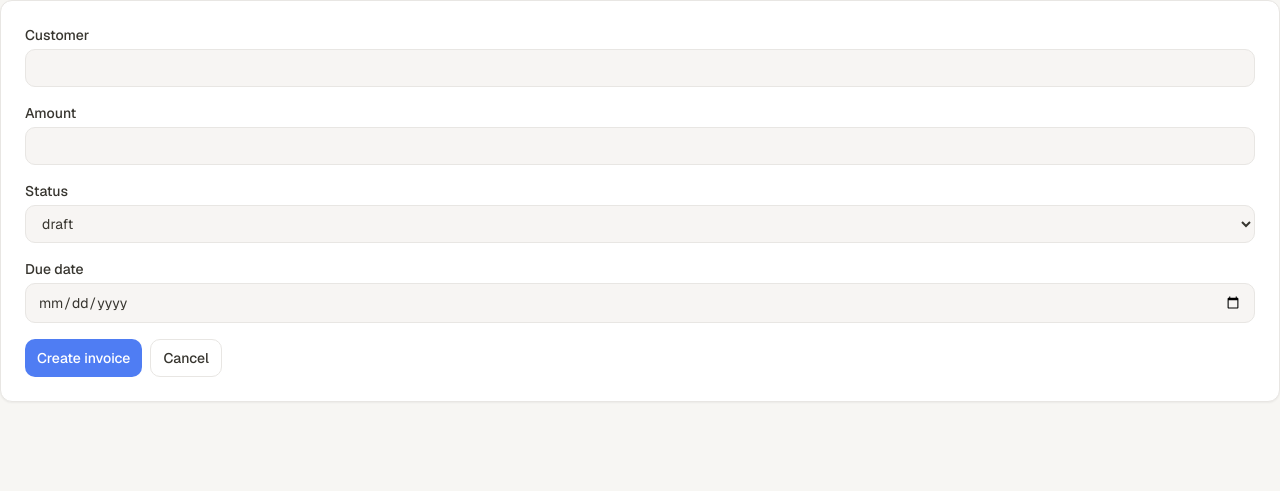
it: CreateInvoiceForm › validation › shows Customer is required and does not submit when the form is empty
The image size is (1280, 491).
Submit with no fields filled — validation must surface visible errors.
Click the button "Create invoice" at (84, 358), box [25,339,142,377]
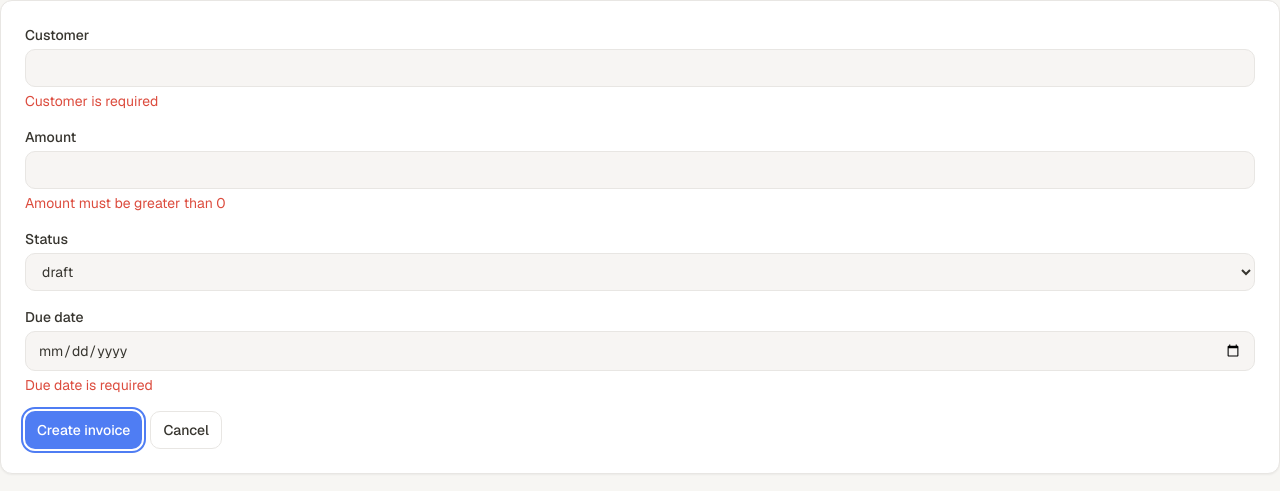
Expected: the text "Customer is required" is shown, [25,92,158,110]
